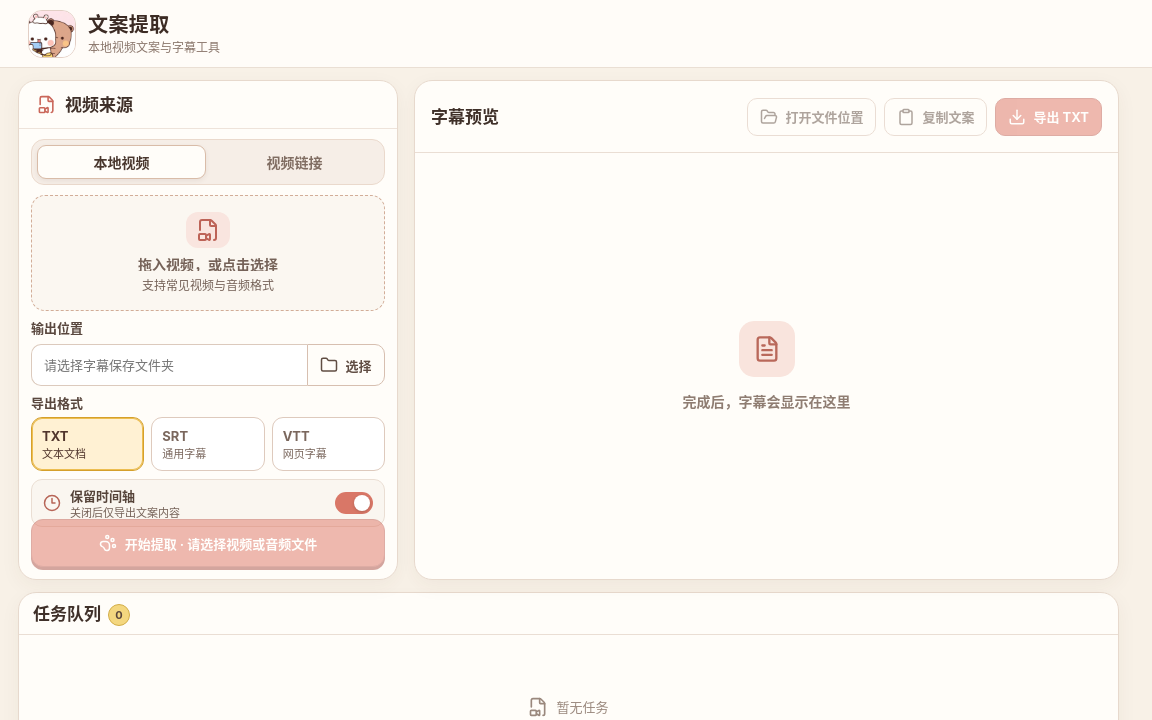
Test: App › rejects unsupported URLs before invoking the backend
Expected: the text "暂无任务" is shown, [556,697,608,716]
Click the button "视频链接" at (294, 162), box [210,145,379,179]
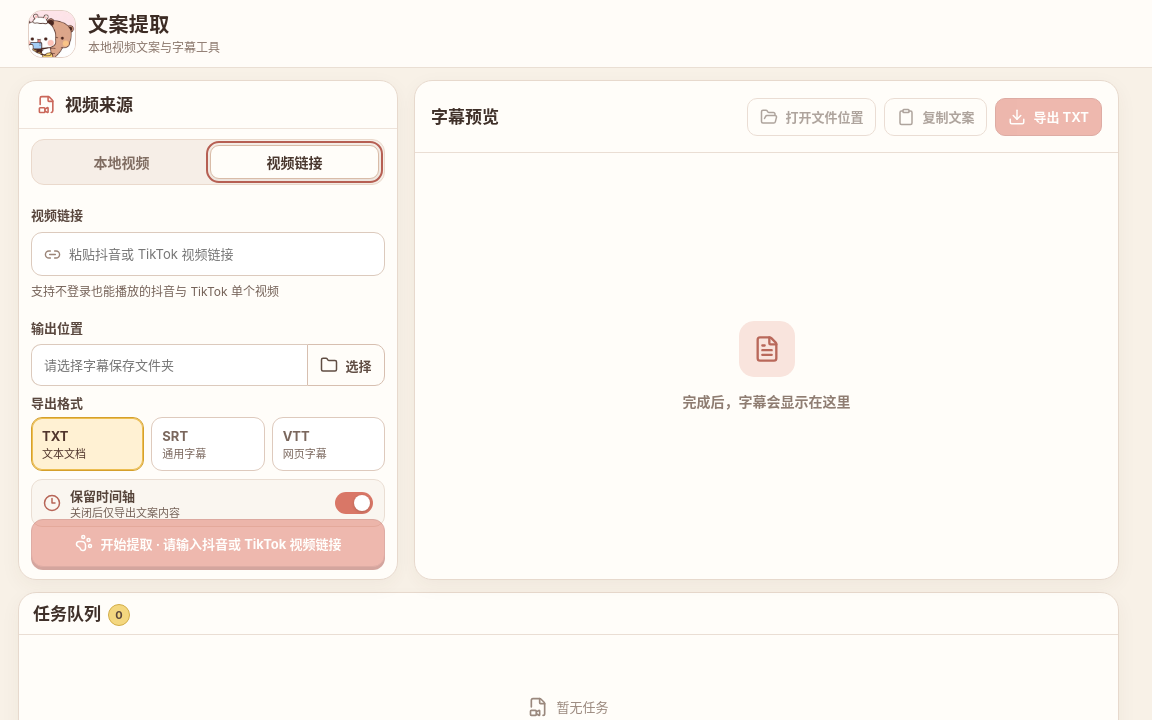
Type "https://tiktok.com.evil.example/video/1" into the field labelled "视频链接" at (220, 254), box [69,233,372,275]
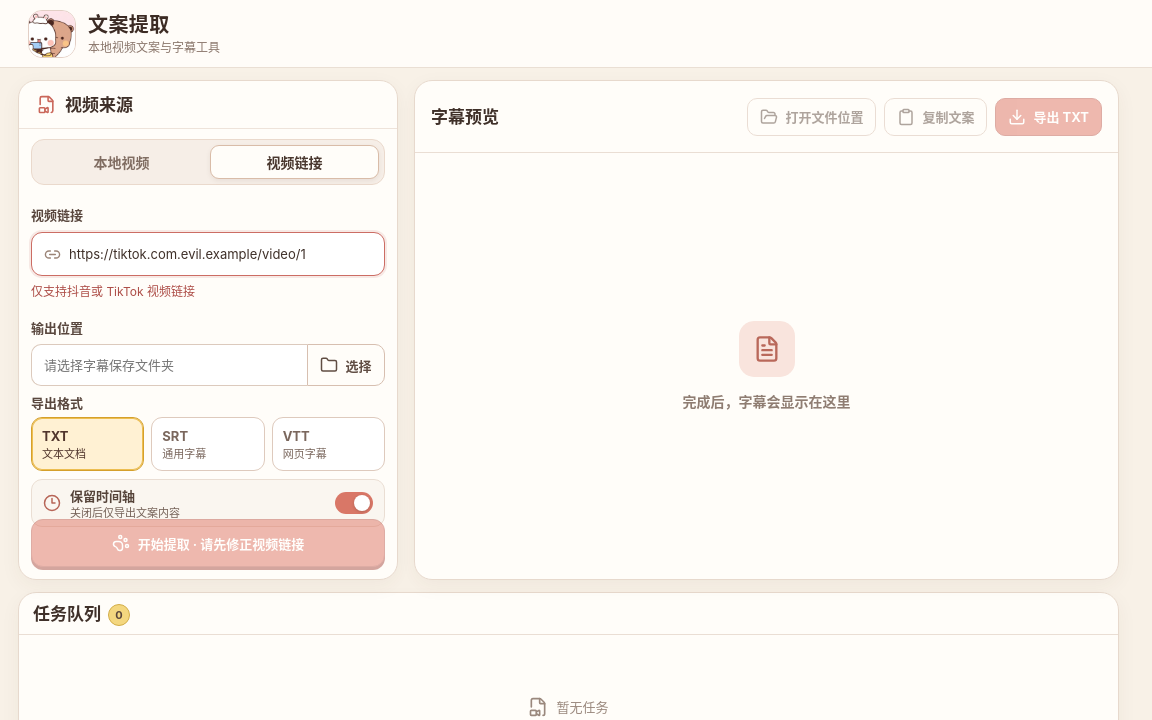
Expected: the button "开始提取 · 请先修正视频链接" is disabled, [31,519,385,567]
Now the text "仅支持抖音或 TikTok 视频链接" is shown, box [31,284,195,299]
